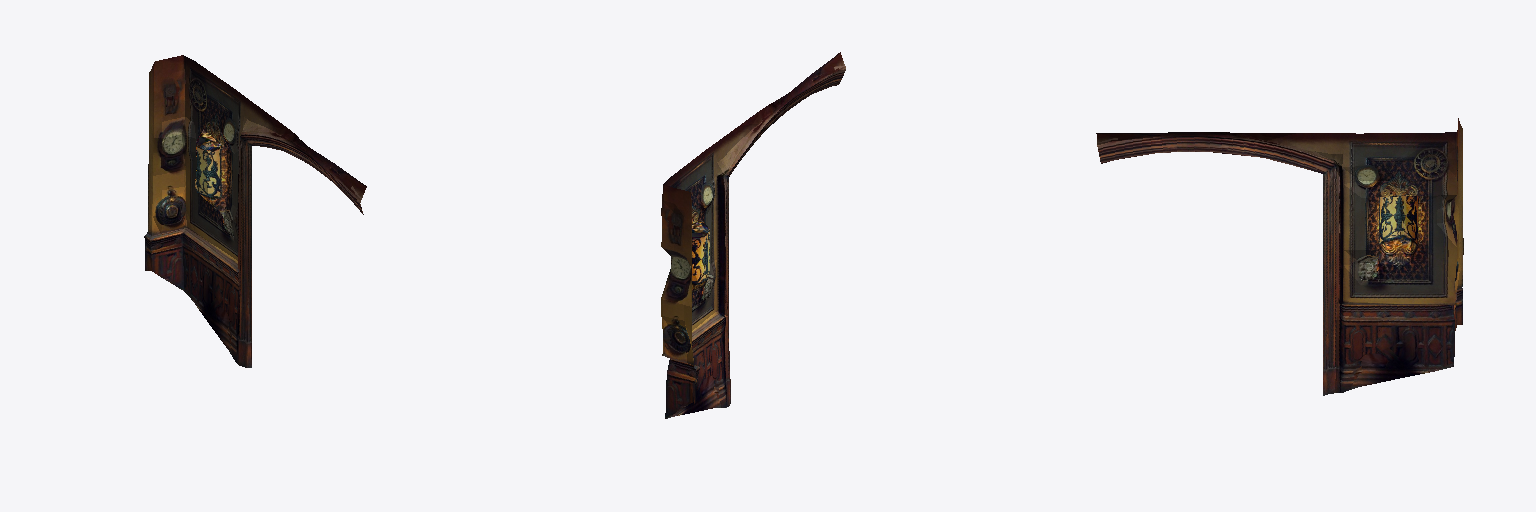
The picture shows the model from 3 angles: view 1: azimuth 30°, elevation 25°; view 2: azimuth 150°, elevation 25°; view 3: azimuth 270°, elevation 25°; orthographic projection.
Visible parts, largest first — view 1: LivingRoom_GEO_GRP_LivingRoom_Wall_Back; view 2: LivingRoom_GEO_GRP_LivingRoom_Wall_Back; view 3: LivingRoom_GEO_GRP_LivingRoom_Wall_Back.
Boxes of the visible parts, box(x1,y1,x2,y2) form: LivingRoom_GEO_GRP_LivingRoom_Wall_Back: box(144, 55, 366, 367); LivingRoom_GEO_GRP_LivingRoom_Wall_Back: box(661, 52, 845, 418); LivingRoom_GEO_GRP_LivingRoom_Wall_Back: box(1096, 118, 1463, 395).
Size of the model in its own units: 0.5413 by 3.43 by 4.32.
Materials: 1 (1 with a texture image).